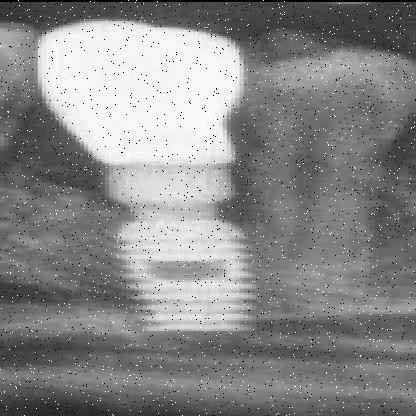Bicon: (102, 221, 259, 338)
